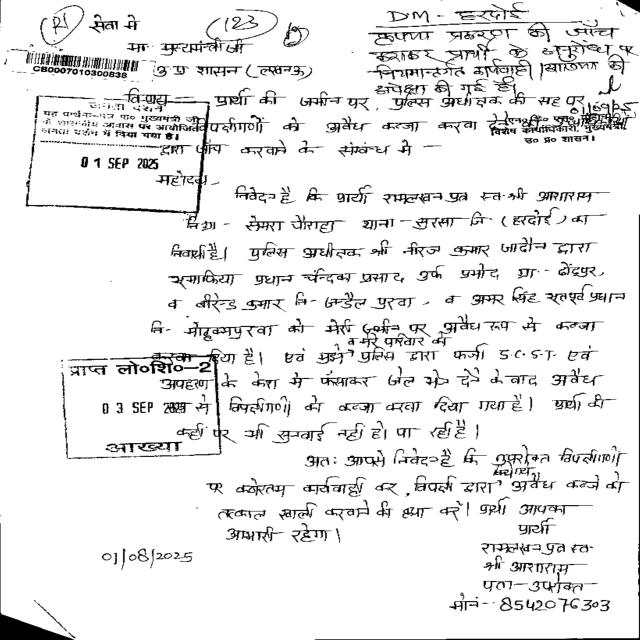antritgovtstamp: (63, 360, 222, 457)
barcode: (21, 47, 144, 79)
jantadarsan: (33, 90, 203, 214)
signnamestamp: (481, 73, 640, 148)
